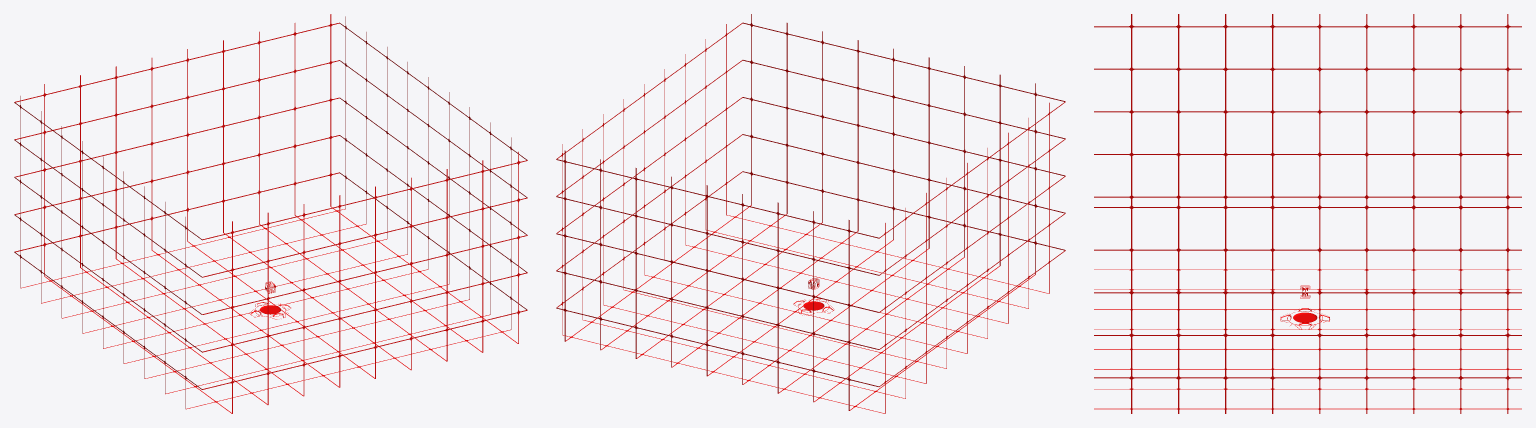
The model's file is mix-light.glb.
3 views of the same model, side by side, from view 1: azimuth 30°, elevation 25°; view 2: azimuth 150°, elevation 25°; view 3: azimuth 270°, elevation 25° (orthographic). The views are drawn at different scales.
Visible parts, largest first — view 1: 物件_56, 物件_53, 物件_57, 物件_55, 物件_54; view 2: 物件_56, 物件_57, 物件_53, 物件_55, 物件_54; view 3: 物件_54, 物件_55, 物件_56.
Part boxes in pixels (<box>): 物件_56: <box>21,206,518,413</box>; 物件_53: <box>202,151,527,413</box>; 物件_57: <box>15,14,339,276</box>; 物件_55: <box>14,96,202,408</box>; 物件_54: <box>339,16,527,329</box>; 物件_56: <box>562,205,1048,413</box>; 物件_57: <box>556,150,879,410</box>; 物件_53: <box>742,14,1065,274</box>; 物件_55: <box>879,101,1065,413</box>; 物件_54: <box>556,23,742,334</box>; 物件_54: <box>1094,194,1521,413</box>; 物件_55: <box>1094,14,1521,199</box>; 物件_56: <box>1094,269,1521,409</box>.
Bounding box in the file's own units: 2.43 × 1.37 × 2.43.
